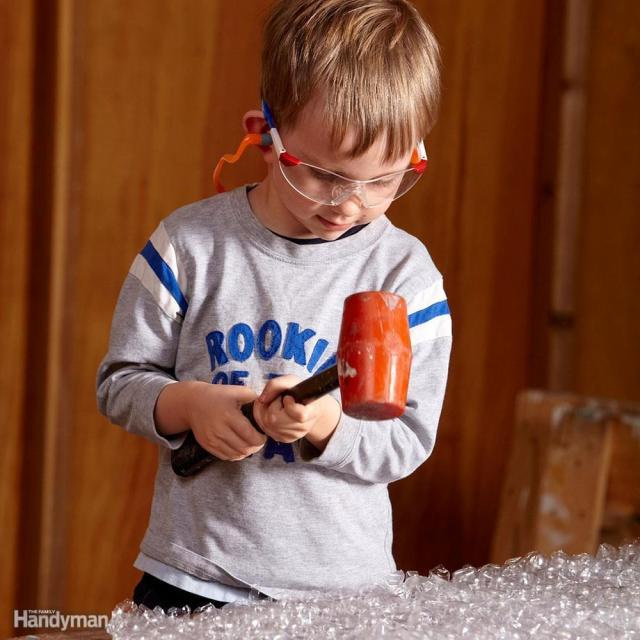hammer: (160, 282, 418, 486)
